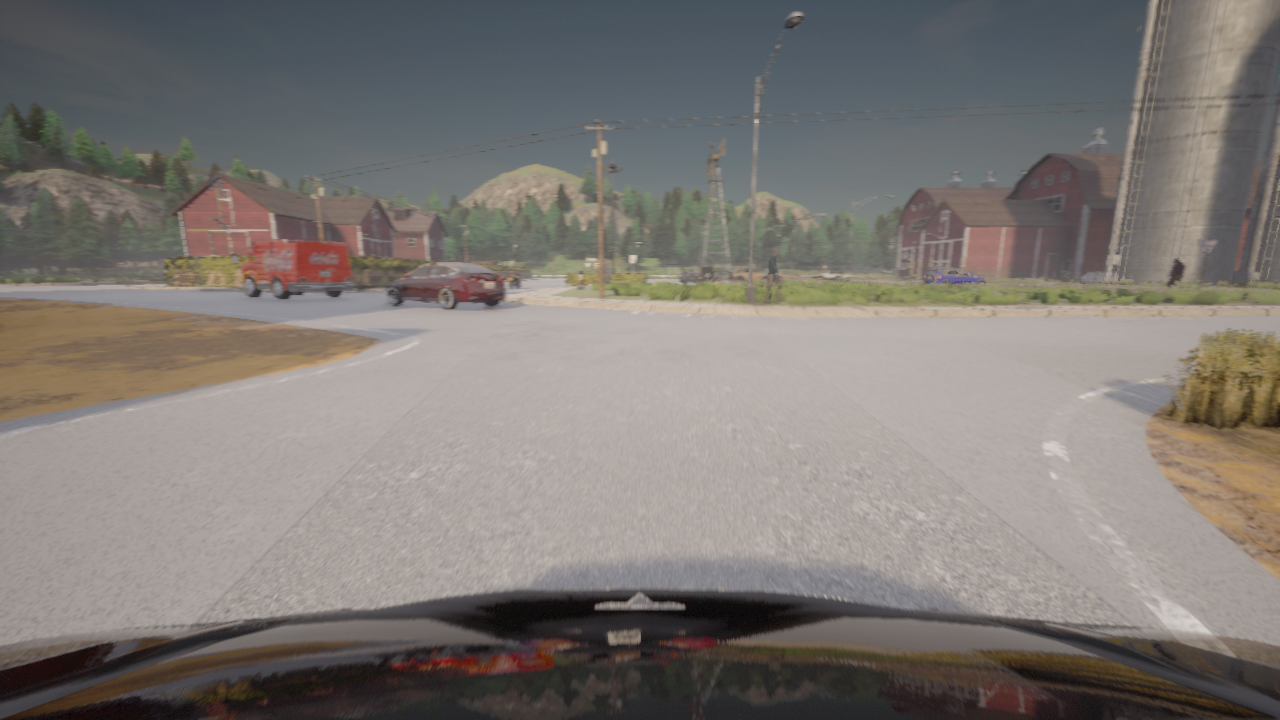cyclist: (0, 588, 1279, 719), (231, 241, 354, 299), (386, 263, 505, 310), (923, 269, 985, 285), (728, 268, 766, 281), (811, 268, 843, 280), (697, 266, 717, 282), (680, 270, 698, 282), (776, 272, 800, 280), (508, 274, 521, 288), (715, 273, 721, 280)
pedestrian: (763, 248, 785, 304), (1166, 259, 1184, 289), (604, 263, 610, 283), (578, 271, 582, 288), (597, 267, 598, 283)
